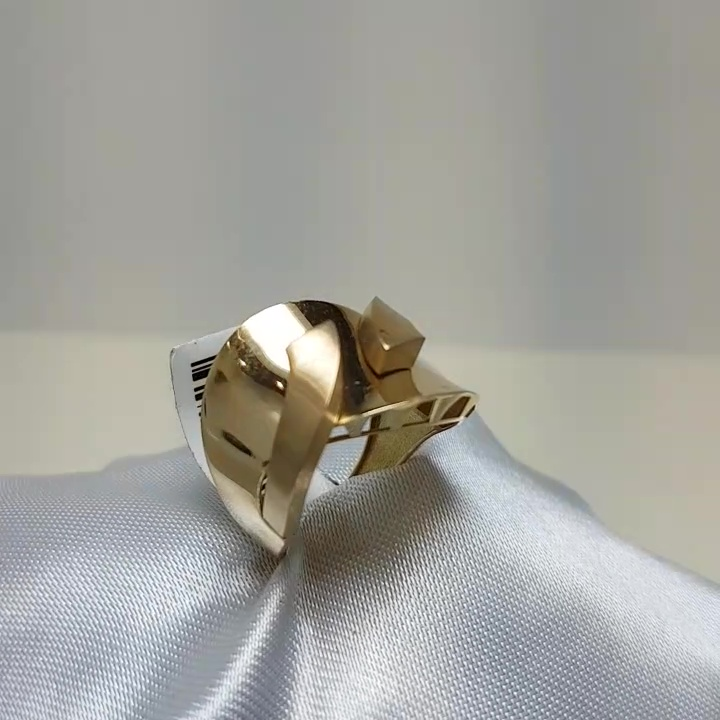Ring 4: (188, 289, 485, 561)
